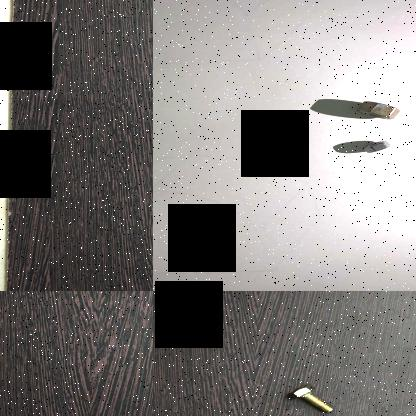Bolts: (285, 380, 339, 412)
NUTS: (350, 92, 406, 132), (344, 142, 393, 158)
